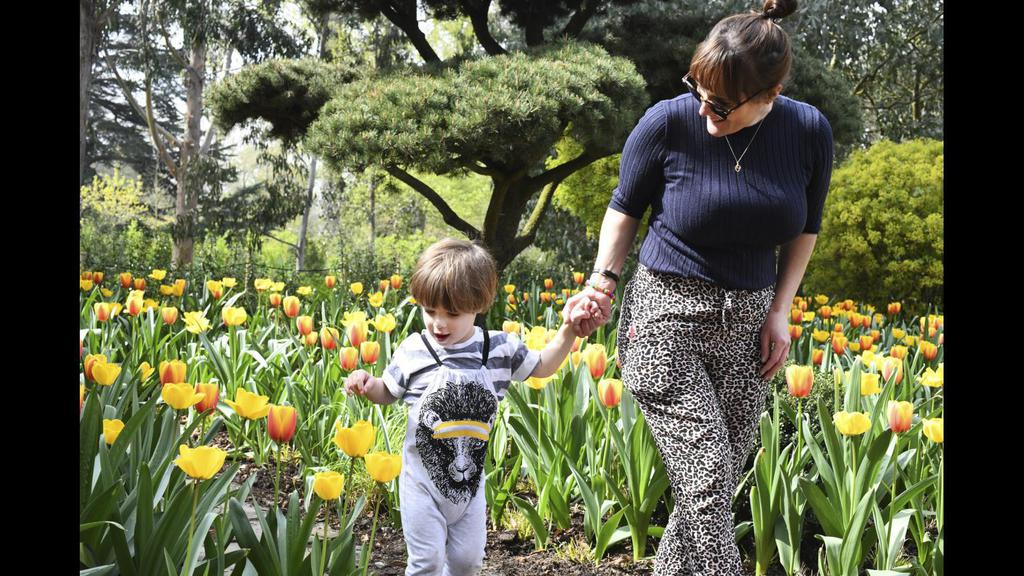child: (334, 236, 586, 570)
